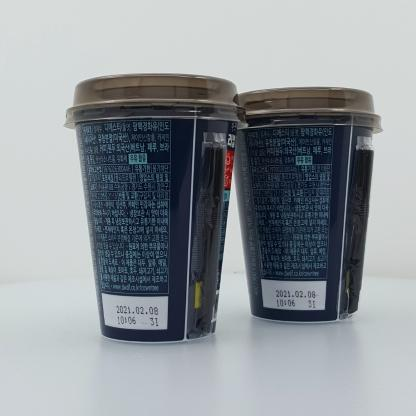----------: (63, 73, 249, 343), (230, 87, 383, 324)
